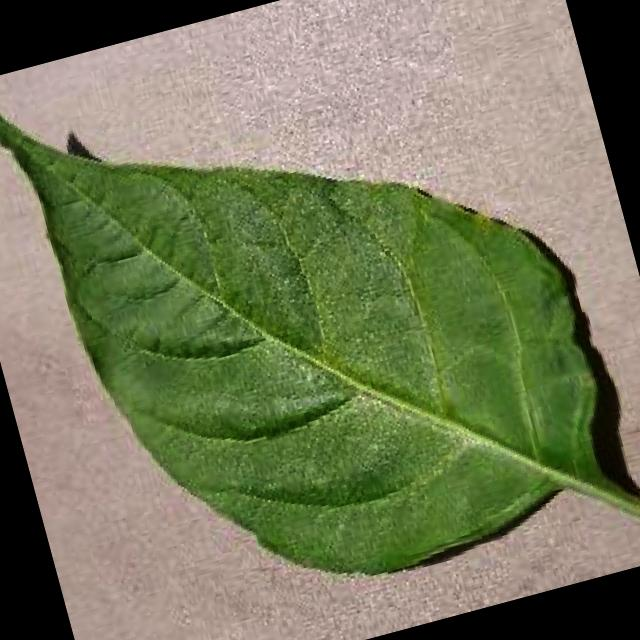Leaf: (0, 0, 631, 597)
